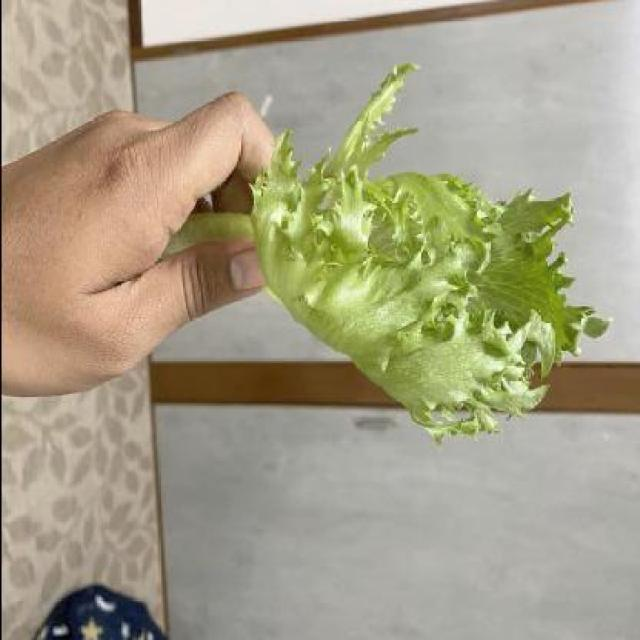Lettuce: (248, 60, 605, 443)
